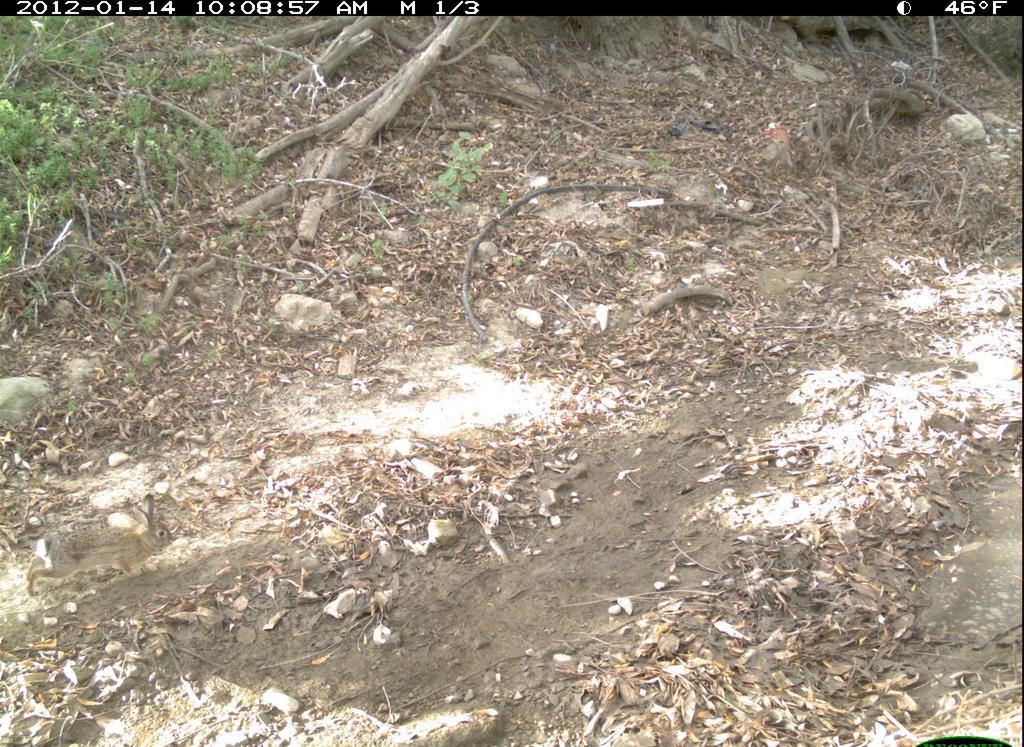rabbit: (22, 489, 181, 602)
